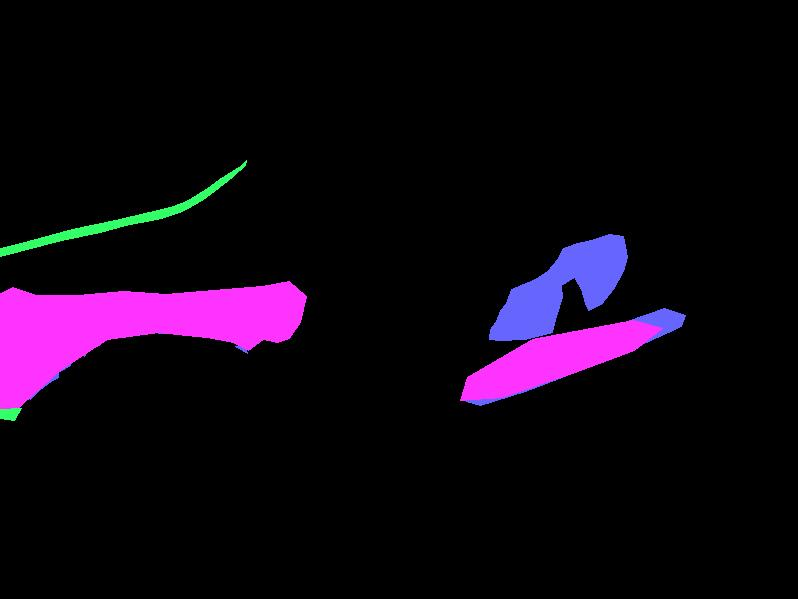Broken part: (0, 160, 246, 256), (0, 408, 21, 420)
Dent: (0, 281, 306, 411), (460, 320, 662, 400)
Scratch: (29, 309, 270, 399), (465, 308, 685, 405), (489, 234, 627, 340), (0, 331, 76, 394), (235, 346, 247, 353)
